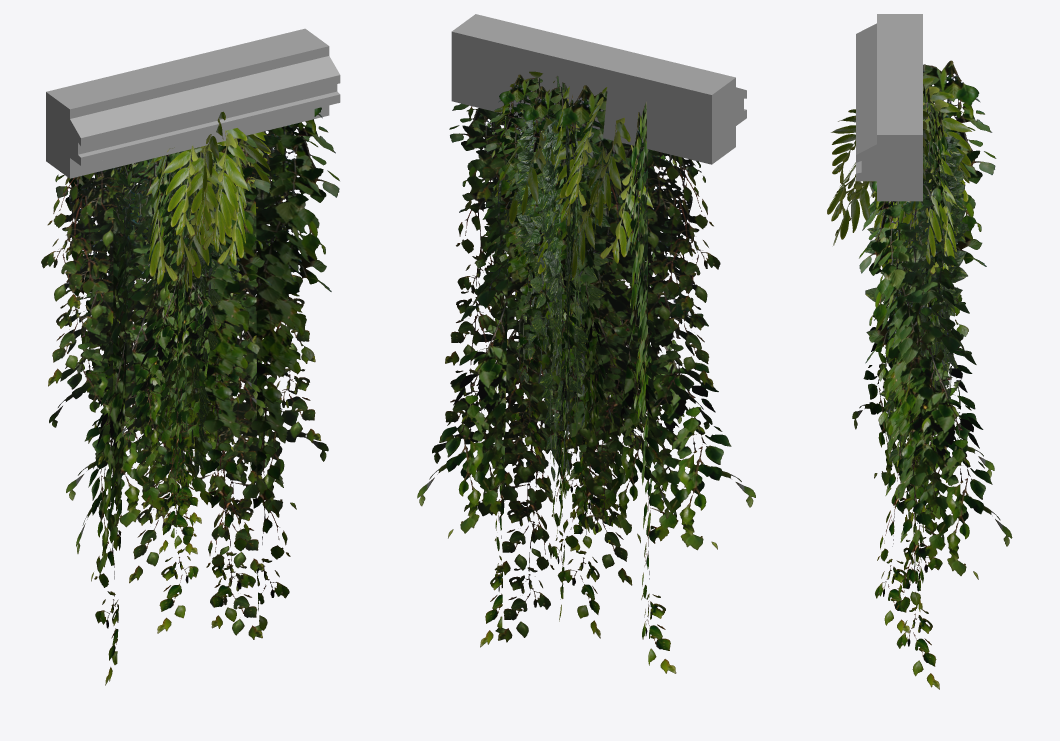
File: plant_fall_L.fbx
3 views of the same model, side by side, from view 1: azimuth 30°, elevation 25°; view 2: azimuth 150°, elevation 25°; view 3: azimuth 270°, elevation 25° (orthographic). The views are drawn at different scales.
Parts seen in each view (by area): view 1: large, medium, Emetteur, extra_small, small; view 2: large, Emetteur, medium, small, extra_small; view 3: large, Emetteur, extra_small, medium, small.
Boxes of the visible parts, bbox=[...] form: large: bbox=[41, 107, 339, 685]; medium: bbox=[66, 136, 271, 633]; Emetteur: bbox=[46, 28, 340, 178]; extra_small: bbox=[107, 111, 272, 292]; small: bbox=[159, 152, 237, 476]; large: bbox=[417, 86, 755, 673]; Emetteur: bbox=[451, 14, 746, 164]; medium: bbox=[485, 74, 684, 638]; small: bbox=[514, 76, 611, 481]; extra_small: bbox=[494, 71, 664, 293]; large: bbox=[852, 60, 1012, 689]; Emetteur: bbox=[856, 14, 922, 201]; extra_small: bbox=[827, 77, 971, 292]; medium: bbox=[874, 84, 994, 633]; small: bbox=[865, 130, 969, 469].
Bounding box in the file's own units: 159 × 296 × 113.
